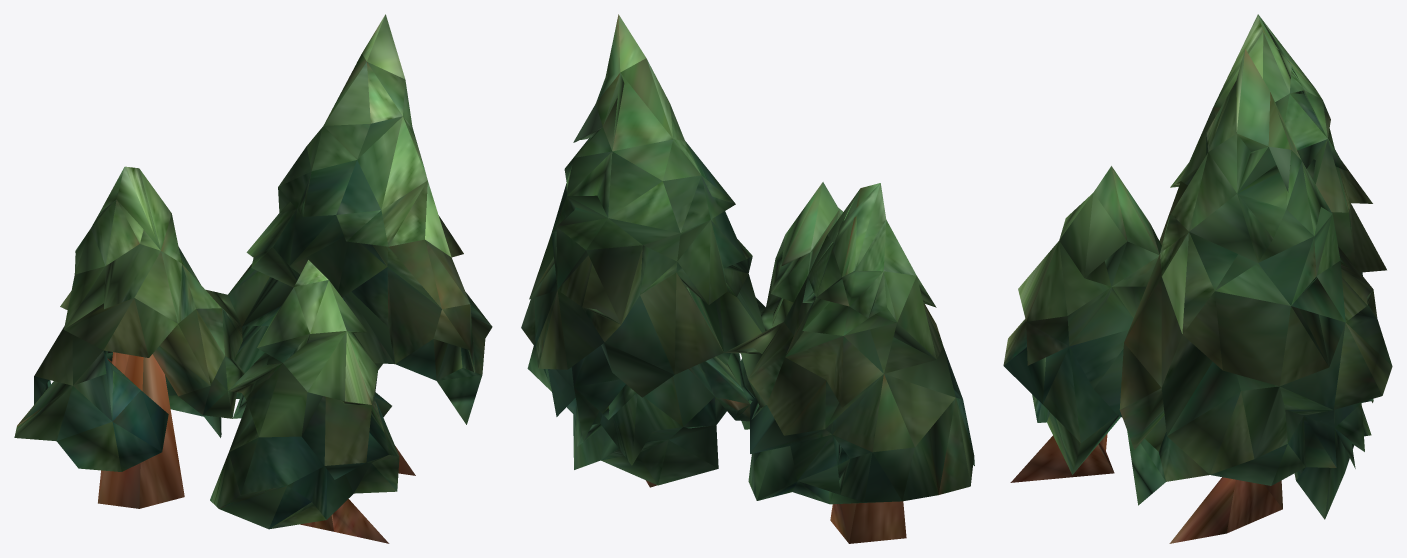
Rendered from treegroup.glb.
The picture shows the model from 3 angles, left to right: view 1: azimuth 30°, elevation 25°; view 2: azimuth 150°, elevation 25°; view 3: azimuth 270°, elevation 25°; orthographic projection. The views are drawn at different scales.
Visible parts, largest first — view 1: Tree; view 2: Tree; view 3: Tree.
Part boxes in pixels (box(x1,y1,x2,y2)): Tree: box(14, 14, 492, 543); Tree: box(521, 14, 974, 543); Tree: box(1003, 14, 1392, 543).
Bounding box in the file's own units: 1.95 × 1.84 × 1.3.
Materials: 1 (1 with a texture image).
